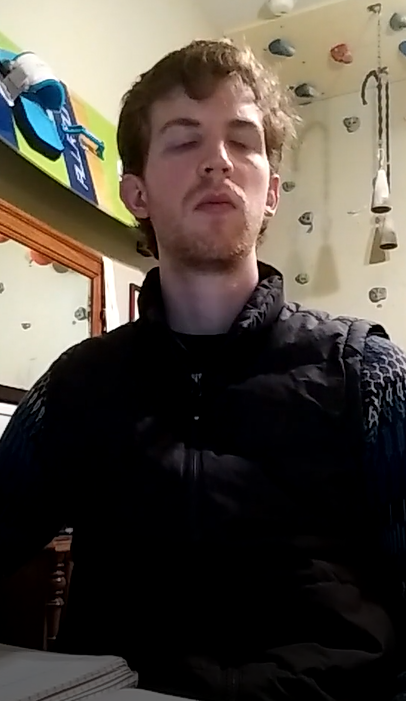Sleeping: (148, 116, 272, 164)
